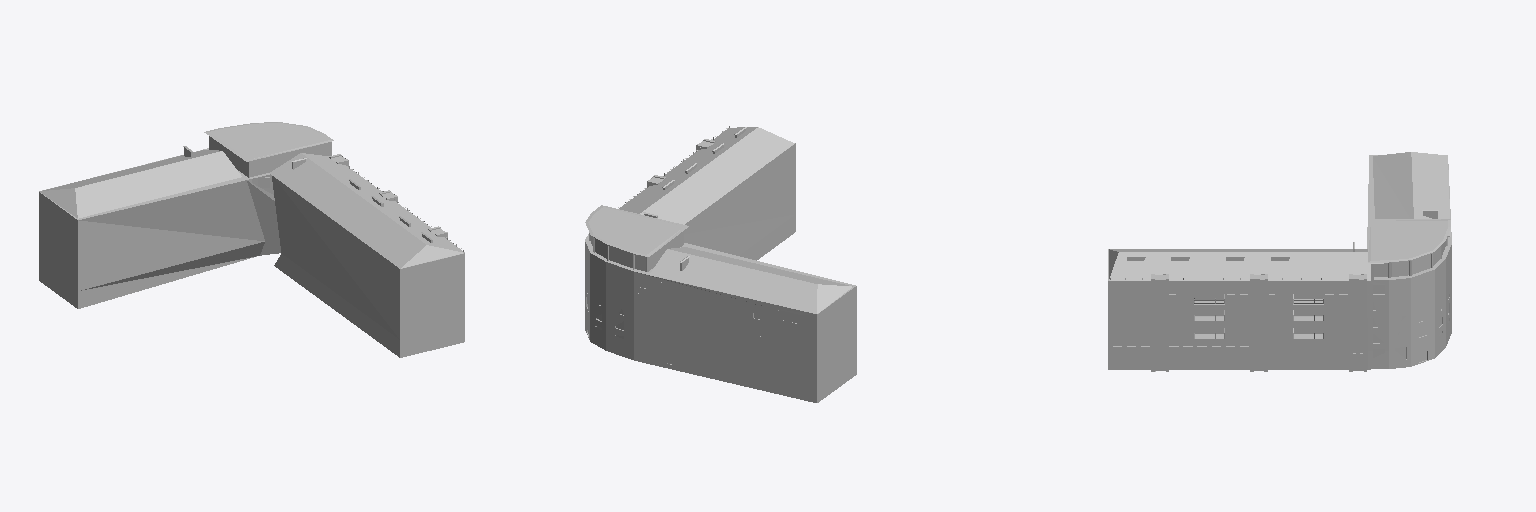
Rendered from pilot_home.obj.
The picture shows the model from 3 angles: view 1: azimuth 30°, elevation 25°; view 2: azimuth 150°, elevation 25°; view 3: azimuth 270°, elevation 25°; orthographic projection.
Visible parts, largest first — view 1: Plane.037; view 2: Plane.037; view 3: Plane.037.
Part boxes in pixels (x1,y1,x2,y2): Plane.037: (39,122,464,357); Plane.037: (585,126,856,402); Plane.037: (1108,152,1451,371).
Size of the model in its own units: 29.48 by 11.3 by 32.9.